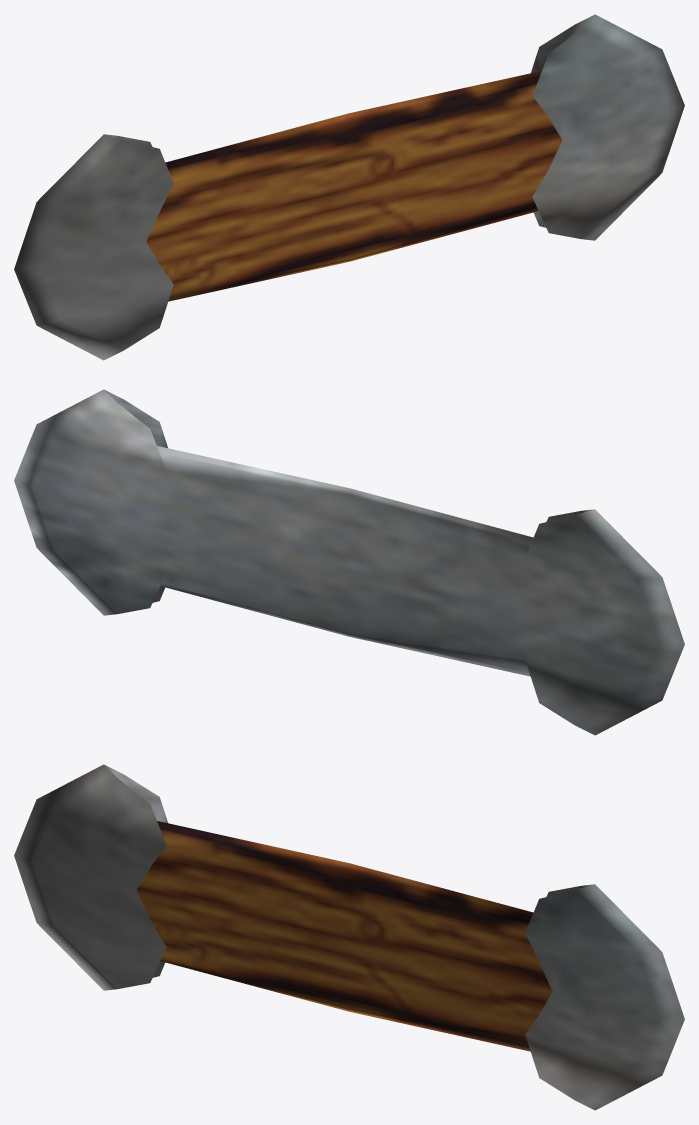
Rendered from uiHPBar.FBX.
The picture shows the model from 3 angles, top to bottom: view 1: azimuth 30°, elevation 25°; view 2: azimuth 150°, elevation 25°; view 3: azimuth 330°, elevation 25°; orthographic projection.
Parts seen in each view (by area): view 1: Box001; view 2: Box001; view 3: Box001.
Part boxes in pixels (bbox=[...]): Box001: bbox=[14, 14, 684, 360]; Box001: bbox=[14, 389, 684, 735]; Box001: bbox=[14, 764, 684, 1110].
Size of the model in its own units: 133 by 43.02 by 4.14.
Materials: 1 (1 with a texture image).
